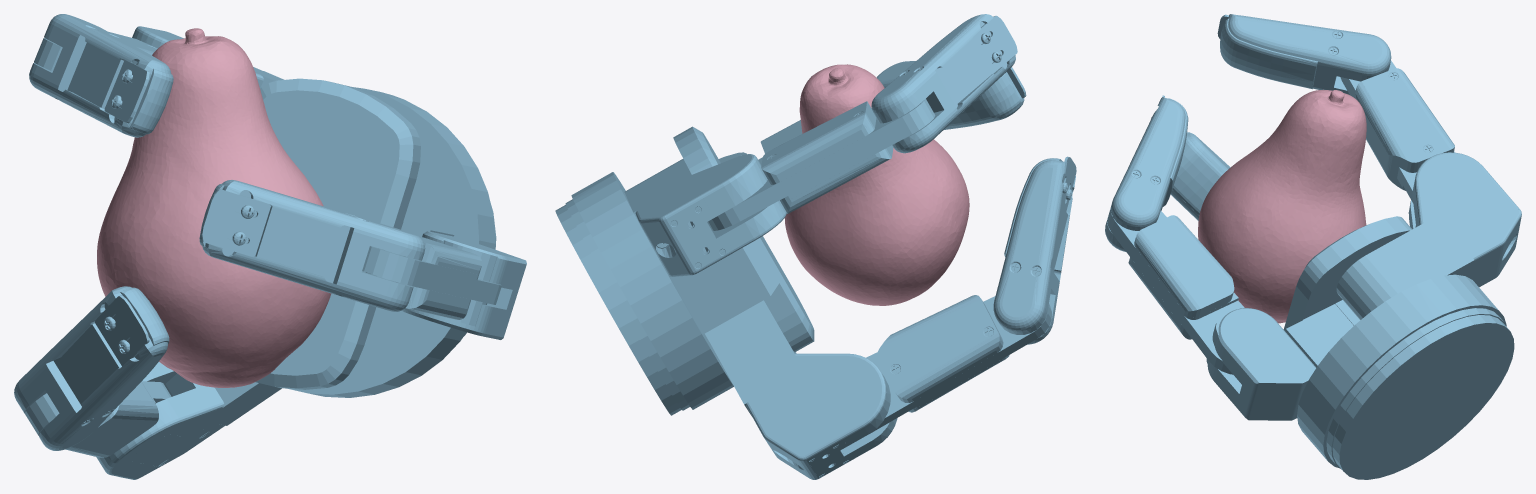
3 renders of one model, left to right at view 1: azimuth 30°, elevation 25°; view 2: azimuth 150°, elevation 25°; view 3: azimuth 270°, elevation 25°, orthographic. The views are drawn at different scales.
Parts seen in each view (by area): view 1: world, pear.stl; view 2: world, pear.stl; view 3: world, pear.stl.
Part boxes in pixels (<box>): world: <box>14,14,526,479</box>; pear.stl: <box>97,28,331,387</box>; world: <box>555,14,1076,479</box>; pear.stl: <box>784,64,969,305</box>; world: <box>1105,14,1521,479</box>; pear.stl: <box>1198,89,1366,323</box>.
Size of the model in its own units: 0.177 by 0.1664 by 0.1624.
